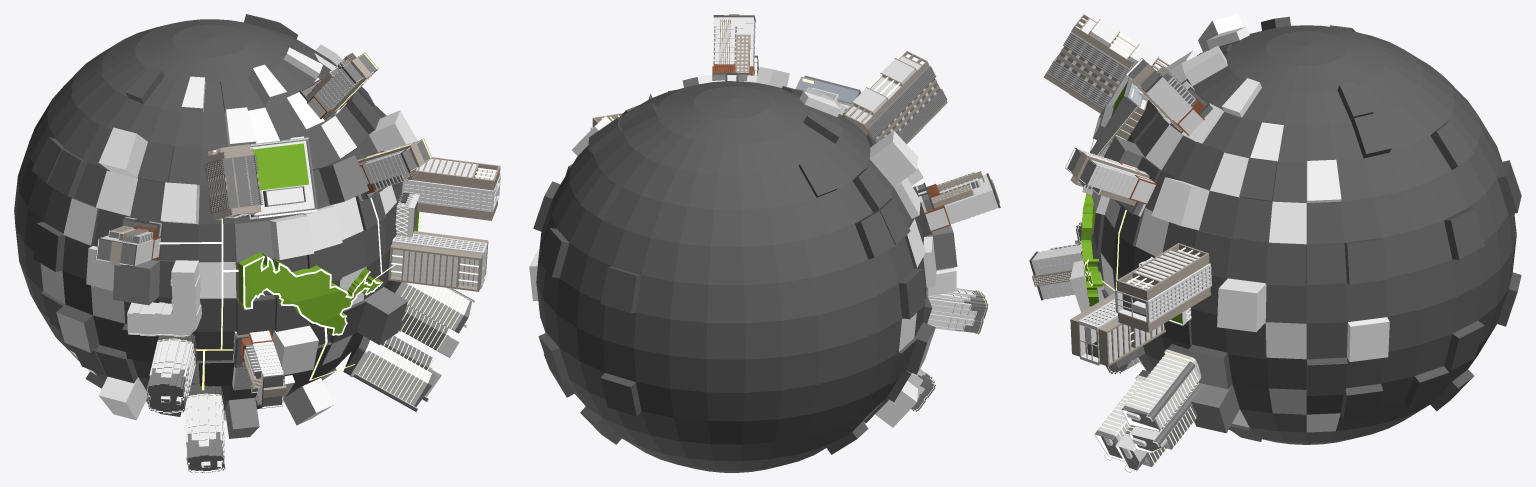
The model's file is infrastructure.gltf.
The picture shows the model from 3 angles, left to right: view 1: azimuth 30°, elevation 25°; view 2: azimuth 150°, elevation 25°; view 3: azimuth 270°, elevation 25°; orthographic projection. The views are drawn at different scales.
Parts seen in each view (by area): view 1: Sphere.002, Curve, Cube.006, Cube.002, Cube.046, Cube.042, Cube, Cube.001, Cube.009, Cube.031, Cube.015, Cube.058 (+14 smaller); view 2: Sphere.002, Cube.034, Cube.001, Cube.064, Cube.032, Cube.031, Cube.061, Cube.058, Cube.033, Cube.042.Plate, Cube, Cube.046 (+2 smaller); view 3: Sphere.002, Cube.002, Cube.006, Cube.015, Cube.052, Cube.031, Cube.058, Cube.034, Cube.047, Curve, Cube.042, Cube.009 (+10 smaller).
Part boxes in pixels (left/top/right/bottom): Sphere.002: left=14, top=14, right=417, bottom=438; Curve: left=238, top=252, right=382, bottom=335; Cube.006: left=388, top=231, right=488, bottom=291; Cube.002: left=402, top=157, right=500, bottom=220; Cube.046: left=127, top=260, right=201, bottom=337; Cube.042: left=250, top=139, right=317, bottom=217; Cube: left=185, top=383, right=225, bottom=472; Cube.001: left=146, top=334, right=197, bottom=413; Cube.009: left=355, top=341, right=436, bottom=406; Cube.031: left=205, top=155, right=261, bottom=212; Cube.015: left=397, top=282, right=471, bottom=333; Cube.058: left=307, top=53, right=378, bottom=119; Sphere.002: left=529, top=67, right=957, bottom=472; Cube.034: left=844, top=51, right=929, bottom=128; Cube.001: left=927, top=288, right=988, bottom=334; Cube.064: left=924, top=173, right=1000, bottom=231; Cube.032: left=845, top=65, right=936, bottom=139; Cube.031: left=852, top=66, right=940, bottom=142; Cube.061: left=713, top=25, right=736, bottom=72; Cube.058: left=712, top=15, right=755, bottom=80; Cube.033: left=897, top=88, right=947, bottom=142; Cube.042.Plate: left=795, top=76, right=858, bottom=104; Cube: left=907, top=368, right=935, bottom=411; Cube.046: left=926, top=267, right=956, bottom=296; Sphere.002: left=1070, top=15, right=1521, bottom=444; Cube.002: left=1115, top=243, right=1211, bottom=332; Cube.006: left=1070, top=292, right=1165, bottom=366; Cube.015: left=1121, top=353, right=1200, bottom=431; Cube.052: left=1065, top=147, right=1156, bottom=204; Cube.031: left=1048, top=33, right=1128, bottom=108; Cube.058: left=1126, top=58, right=1204, bottom=135; Cube.034: left=1071, top=14, right=1166, bottom=70; Cube.047: left=1029, top=245, right=1082, bottom=300; Curve: left=1081, top=193, right=1102, bottom=306; Cube.042: left=1090, top=61, right=1136, bottom=155; Cube.009: left=1094, top=378, right=1144, bottom=461.
Bounding box in the file's own units: 1.62 × 1.4 × 1.58.
